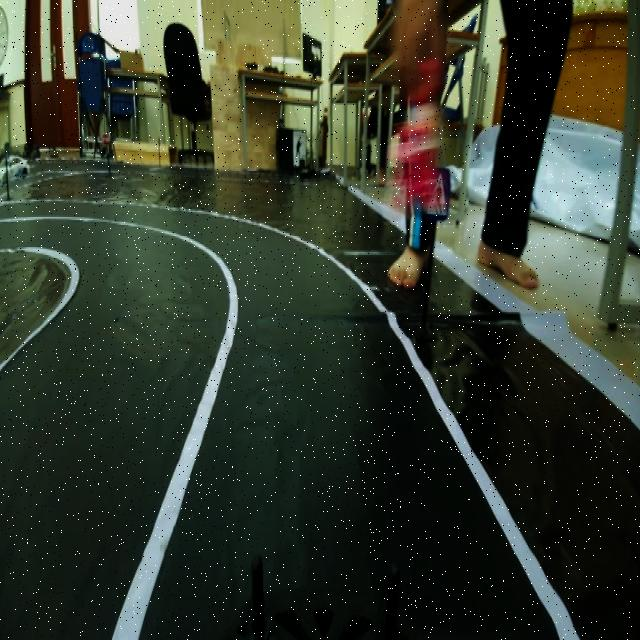crosswalk: (421, 162, 454, 224)
